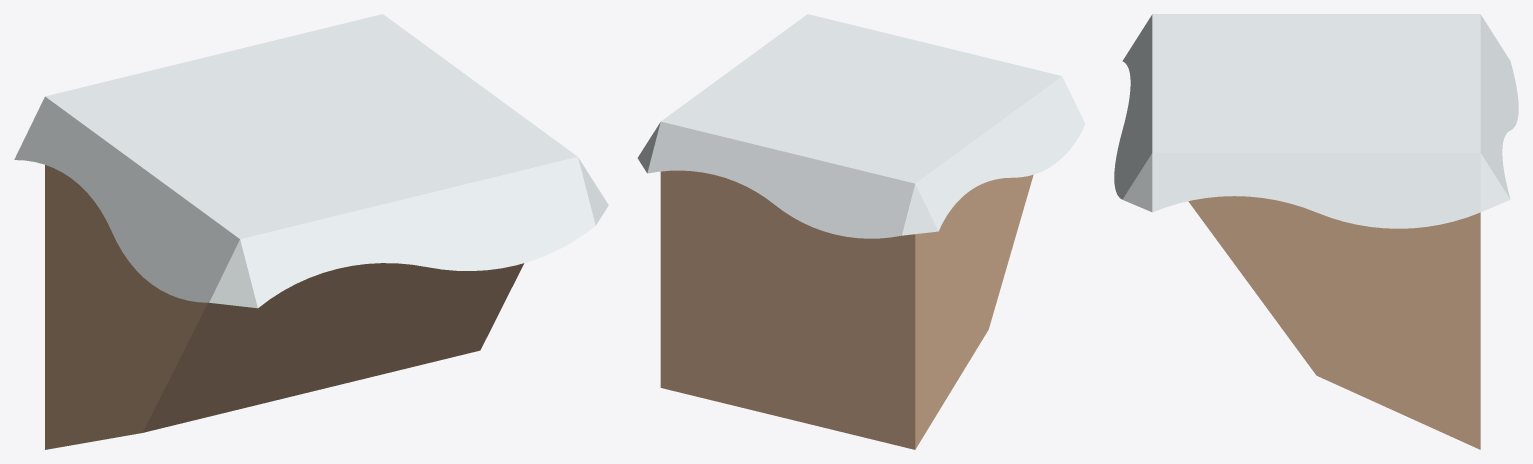
3 renders of one model, left to right at view 1: azimuth 30°, elevation 25°; view 2: azimuth 150°, elevation 25°; view 3: azimuth 270°, elevation 25°, orthographic. The views are drawn at different scales.
Parts seen in each view (by area): view 1: blockSnowCliff; view 2: blockSnowCliff; view 3: blockSnowCliff.
Part boxes in pixels (x1=…): blockSnowCliff: x1=14, y1=14, x2=608, y2=449; blockSnowCliff: x1=637, y1=14, x2=1085, y2=449; blockSnowCliff: x1=1114, y1=14, x2=1518, y2=449.
Bounding box in the file's own units: 1.23 × 1 × 1.23.
